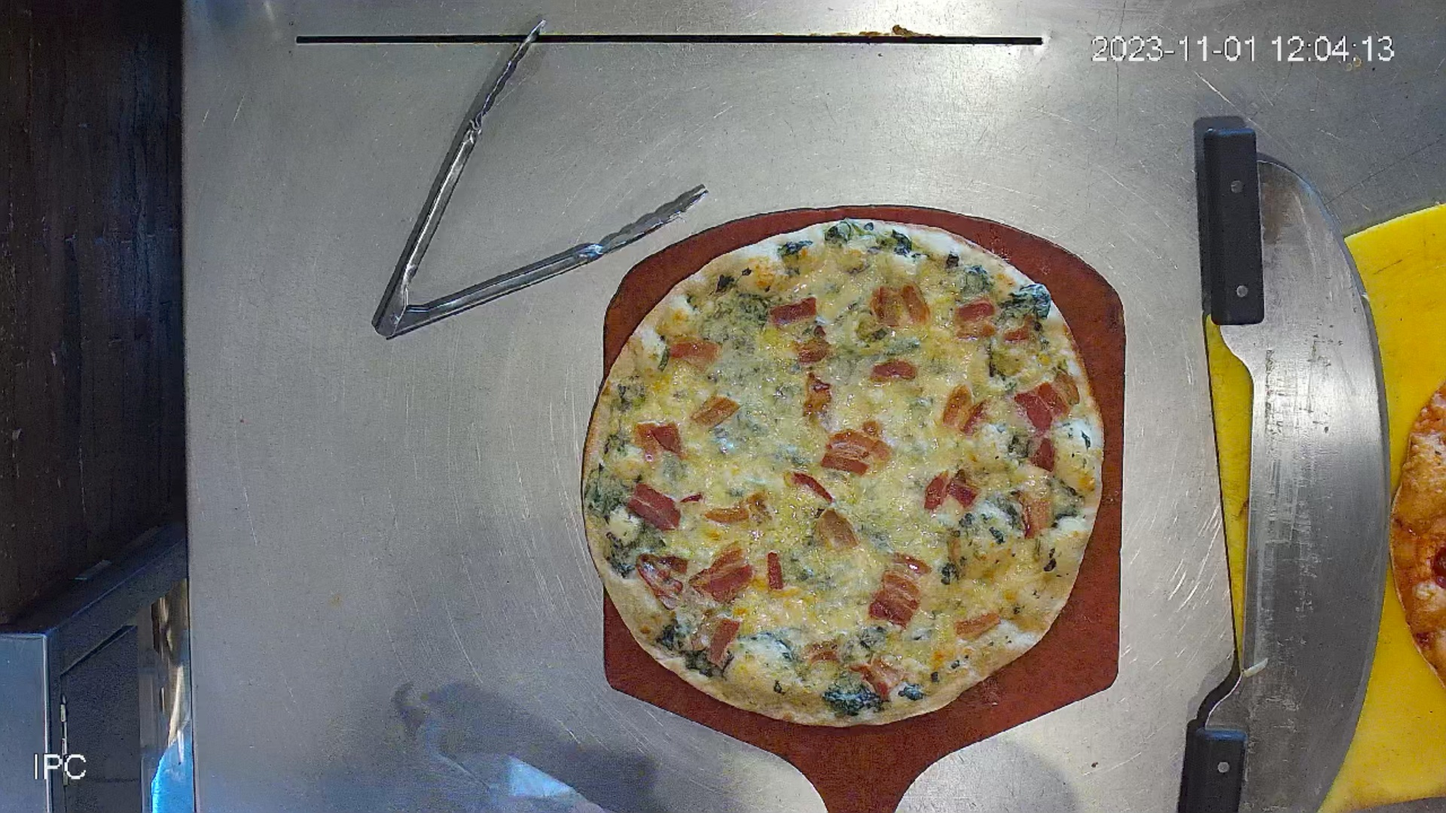pepporoni: (578, 219, 1106, 731)
